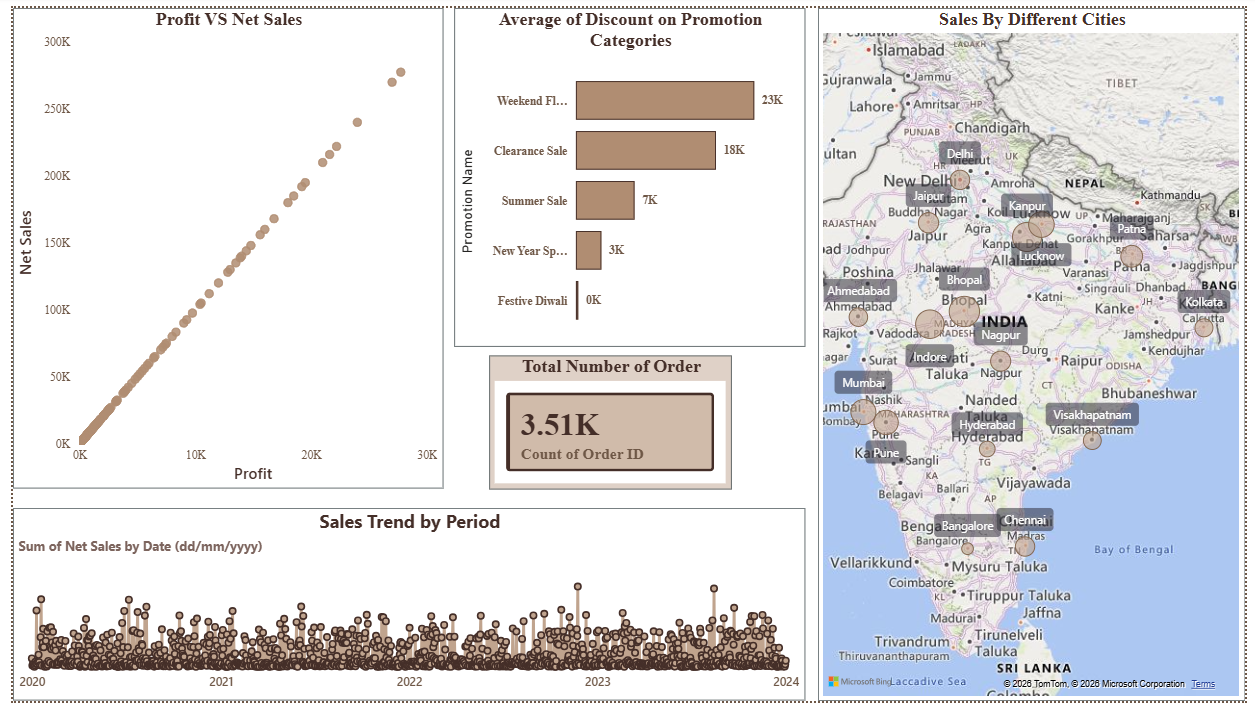

The page's visual inventory and layout, read from the dashboard file:
{"tool":"powerbi","page":{"name":"Sales Overview ","canvas":[1280,720],"ordinal":0},"visuals":[{"type":"lineChart","title":"Sales Trend by Period","fields":{"Y":["Sum(Fact Table.Net Sales)"],"Category":["Fact Table.Date (dd/mm/yyyy)"]},"box":[0,519.8,823.3,200],"z":0},{"type":"scatterChart","title":"Profit VS Net Sales","fields":{"X":["Fact Table.Profit"],"Y":["Fact Table.Net Sales"]},"box":[0,0,447.3,499.5],"z":1000},{"type":"barChart","title":"Average of Discount on Promotion Categories ","fields":{"Y":["Avg(Fact Table.Discount Values )"],"Category":["Dim Promotion.Promotion Name"]},"box":[458.1,0,365.1,352.3],"z":2000},{"type":"map","title":" Sales By Different Cities","fields":{"Category":["Dim Customers.City"],"Size":["Sum(Fact Table.Net Sales)"]},"box":[835.6,0,444.3,720.2],"z":3000},{"type":"cardVisual","title":"Total Number of Order","fields":{"Data":["Count(Fact Table.Order ID)"]},"box":[495.4,360.5,252.3,139.5],"z":4000}]}

Visuals, with their boxes in screenshot pixels (x1, y1, x2, y2), scaled from the page's 1280x720 canvas onto the 1255x706 screenshot:
"Sales Trend by Period" lineChart: left=0, top=510, right=807, bottom=705
"Profit VS Net Sales" scatterChart: left=0, top=0, right=439, bottom=490
"Average of Discount on Promotion Categories " barChart: left=449, top=0, right=807, bottom=345
" Sales By Different Cities" map: left=819, top=0, right=1254, bottom=705
"Total Number of Order" cardVisual: left=486, top=353, right=733, bottom=490
